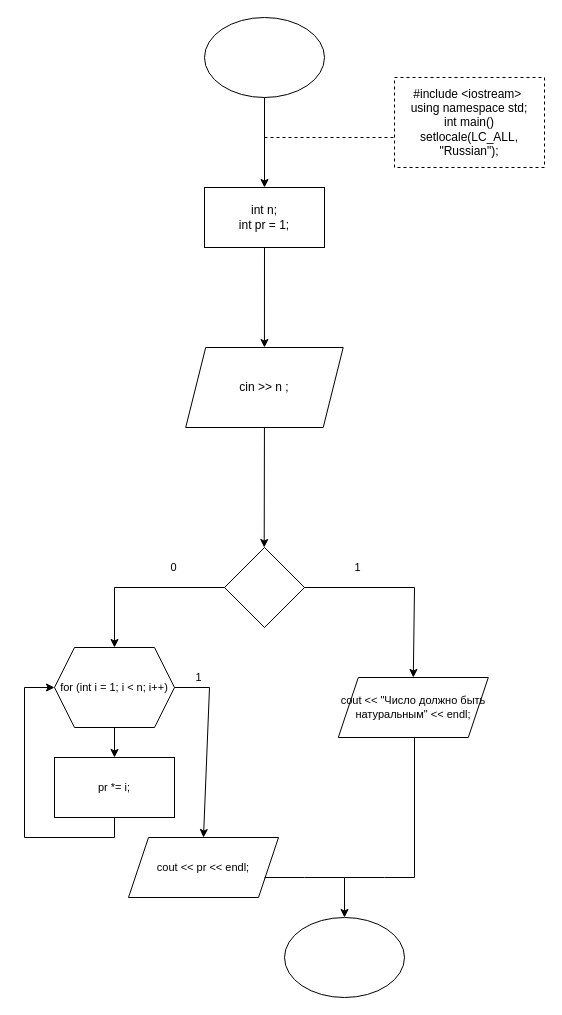
Image size: 562x1015. Some labels were removed from this diagram. Here are the shapes that lost their labels. From the top down, the centre of each, then its label:
At (x=264, y=57): "Начало".
At (x=264, y=587): "if (n <= 0)".
At (x=344, y=957): "Завершение".
